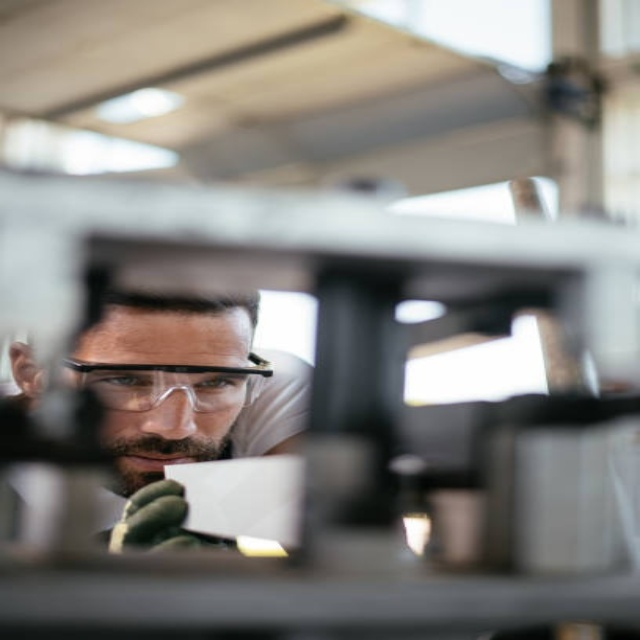Gafas: (62, 359, 272, 413)
Guantes: (105, 478, 225, 554)
Sin_mascara: (107, 433, 201, 474)
